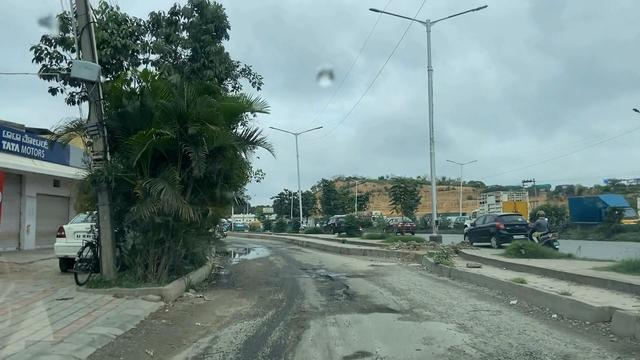RoadDamages: (298, 263, 395, 323), (402, 308, 452, 328), (339, 346, 384, 360)
